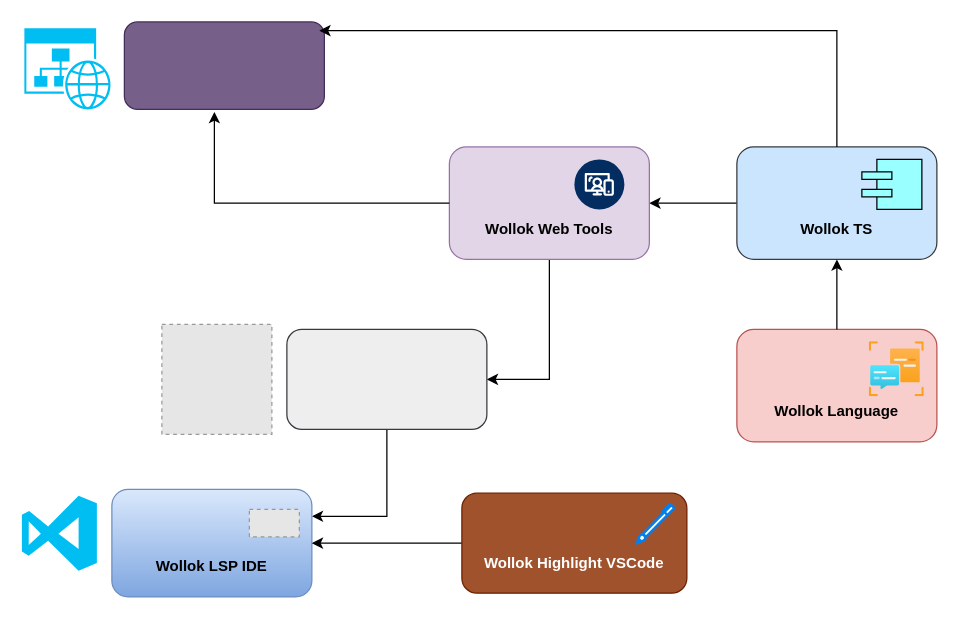
This 959x619 diagram has some shape labels left out. Grey dashed boxes stand in for pictures. The shapes that lost their labels are listed below. From the top down, each one's centre as x and y in pixels, then its label:
At [223,65]: "Website Wollok TS".
At [386,378]: "Wollok TS CLI".
